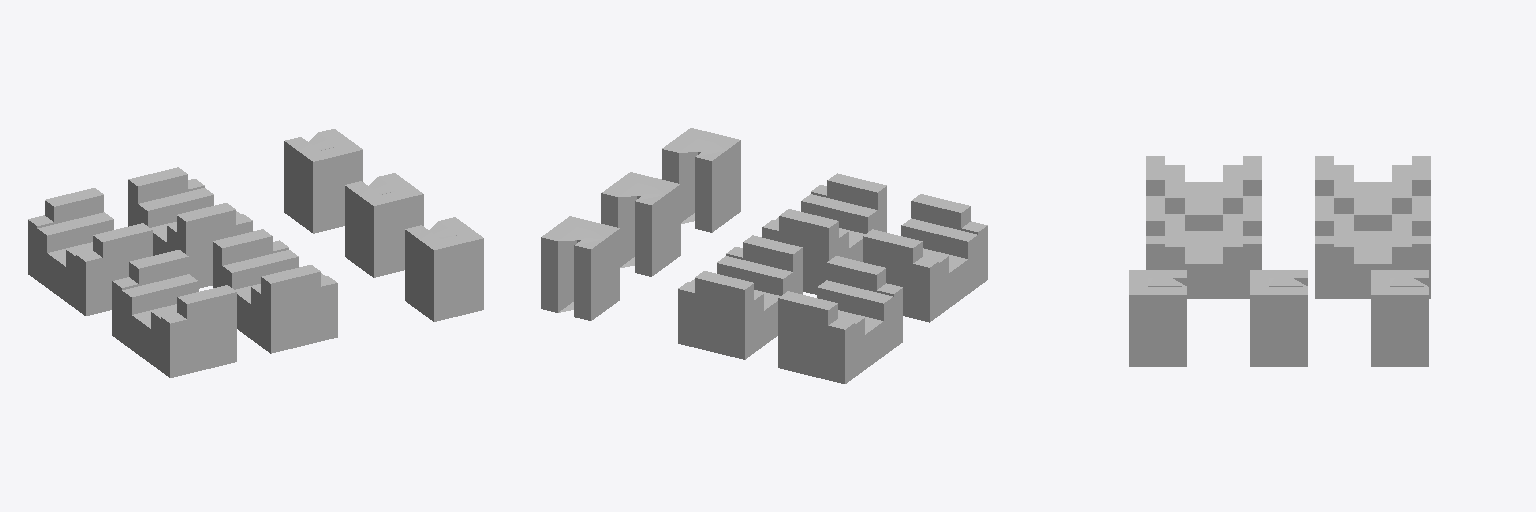
The model's file is arroz 4.obj.
3 views of the same model, side by side, from view 1: azimuth 30°, elevation 25°; view 2: azimuth 150°, elevation 25°; view 3: azimuth 270°, elevation 25° (orthographic).
Size of the model in its own units: 4.42 by 0.9964 by 3.79.